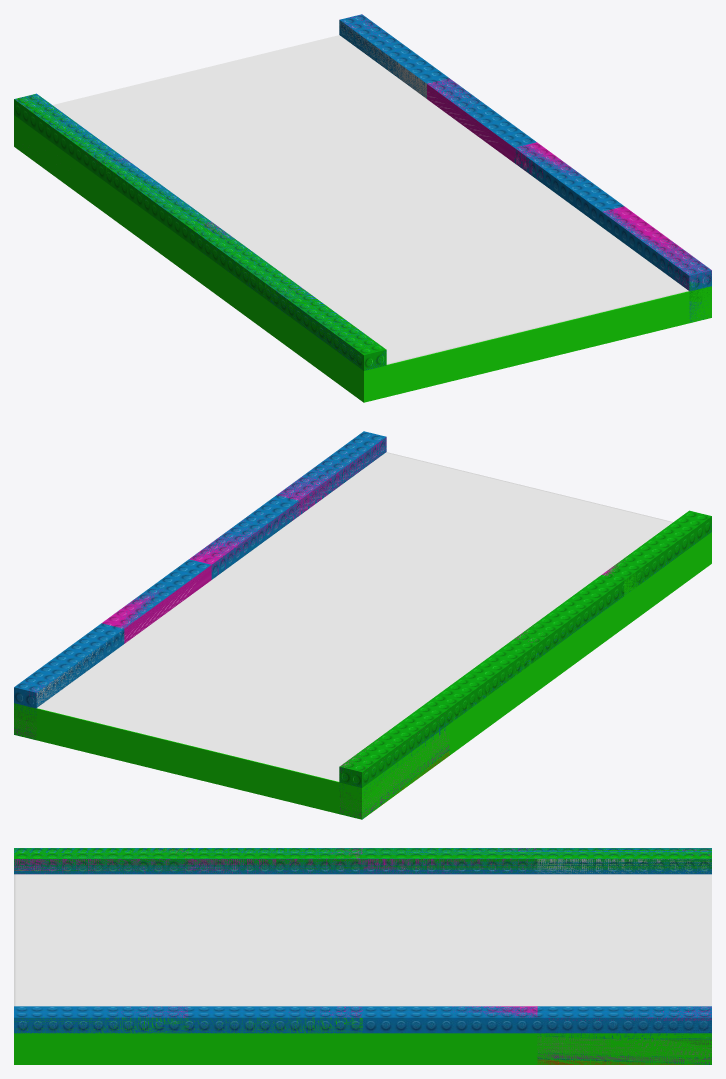
Rendered from platform.fbx.
3 renders of one model, top to bottom at view 1: azimuth 30°, elevation 25°; view 2: azimuth 150°, elevation 25°; view 3: azimuth 270°, elevation 25°, orthographic.
Visible parts, largest first — view 1: platform_texture, c2_platform_1, c1_platform_2, yp_sag4, yp_sol4, platform_taban, yp_sol3, yp_sag3, c1_platform_1, yp_sag2, yp_sol2, yp_sol1; view 2: platform_texture, c2_platform_1, c1_platform_2, platform_taban, yp_sol3, yp_sol2, yp_sag3, yp_sag1, yp_sag2, yp_sol4, yp_sag4, yp_sol1 (+1 smaller); view 3: platform_texture, c1_platform_2, c2_platform_1, c1_platform_1, yp_sol4, yp_sol3, yp_sol1, yp_sag3, yp_sag2, yp_sag1, yp_sag4, yp_sol2.
Boxes of the visible parts, x1,y1,x2,y2 form: platform_texture: [52, 35, 688, 364]; c2_platform_1: [14, 94, 386, 402]; c1_platform_2: [339, 14, 711, 323]; yp_sag4: [278, 264, 533, 387]; yp_sol4: [451, 206, 711, 359]; platform_taban: [386, 291, 689, 396]; yp_sol3: [363, 142, 591, 263]; yp_sag3: [189, 200, 446, 336]; c1_platform_1: [15, 93, 386, 396]; yp_sag2: [103, 136, 328, 273]; yp_sol2: [276, 78, 514, 177]; yp_sol1: [190, 14, 426, 98]; platform_texture: [37, 452, 673, 781]; c2_platform_1: [339, 510, 711, 819]; c1_platform_2: [14, 431, 386, 740]; platform_taban: [36, 708, 339, 813]; yp_sol3: [189, 501, 398, 616]; yp_sol2: [102, 565, 288, 679]; yp_sag3: [363, 582, 558, 691]; yp_sag1: [188, 705, 449, 819]; yp_sag2: [282, 646, 536, 754]; yp_sol4: [277, 437, 490, 552]; yp_sag4: [453, 550, 663, 627]; yp_sol1: [14, 631, 239, 744]; platform_texture: [14, 874, 711, 1006]; c1_platform_2: [14, 1006, 711, 1064]; c2_platform_1: [14, 848, 711, 873]; c1_platform_1: [14, 848, 711, 874]; yp_sol4: [14, 949, 188, 1064]; yp_sol3: [188, 949, 362, 1064]; yp_sol1: [537, 948, 711, 1064]; yp_sag3: [188, 848, 362, 947]; yp_sag2: [363, 848, 537, 947]; yp_sag1: [537, 848, 711, 944]; yp_sag4: [14, 848, 188, 947]; yp_sol2: [453, 948, 537, 1017].
Bounding box in the file's own units: 11.5 × 1.5 × 20.01.
